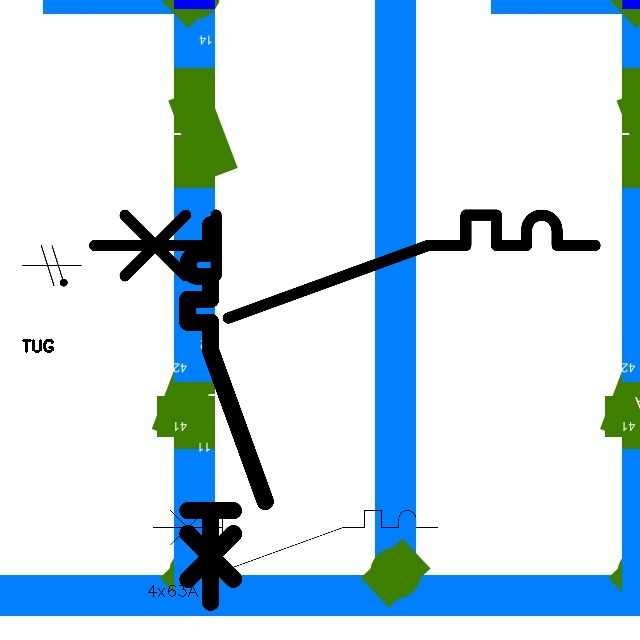interruptor_termomagnetico: (81, 202, 607, 331), (178, 215, 275, 612), (146, 503, 445, 576)
